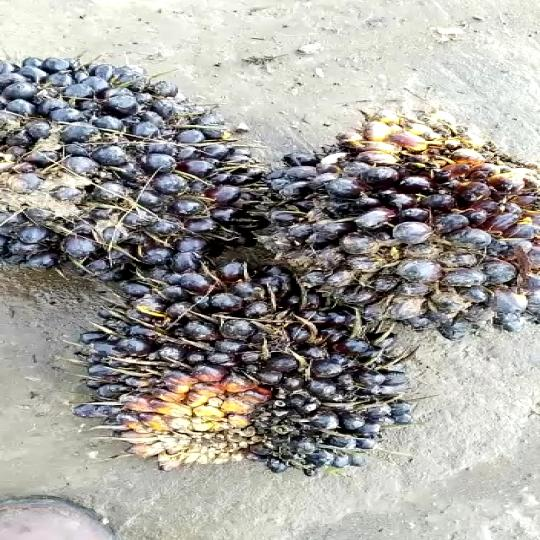mentah: (64, 258, 415, 476), (246, 109, 540, 331), (0, 54, 253, 289)
